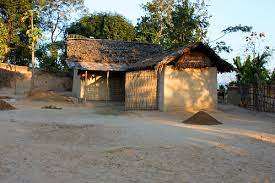Mud House: (60, 30, 233, 120)
